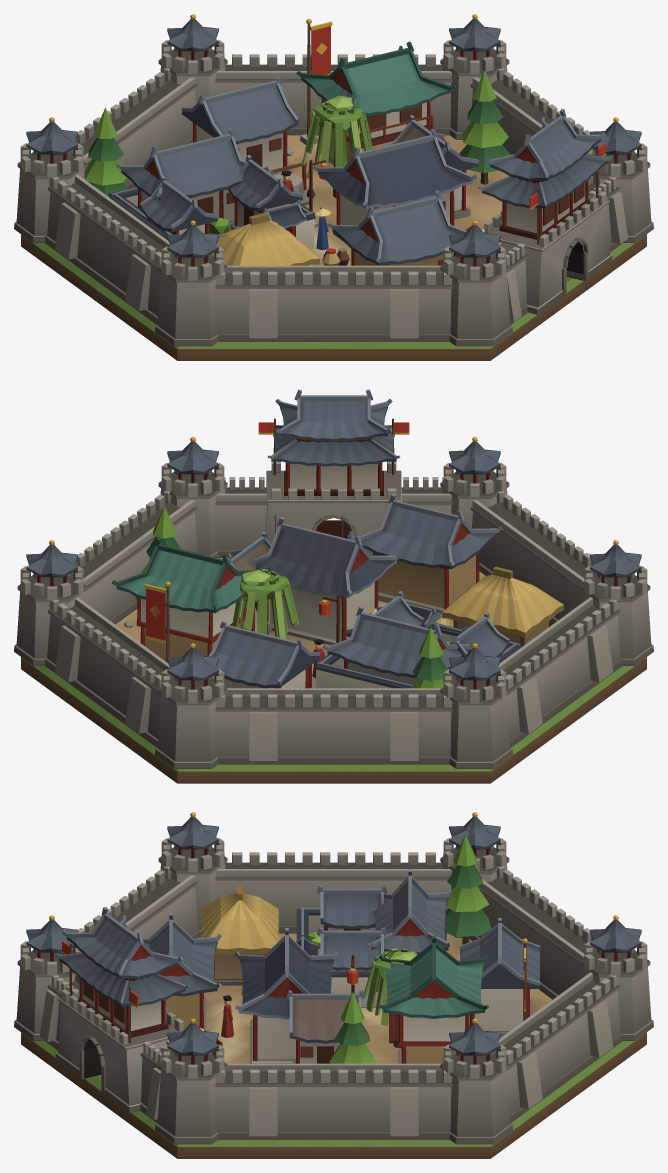
Rendered from cluster_walled.glb.
The picture shows the model from 3 angles, top to bottom: view 1: azimuth 30°, elevation 25°; view 2: azimuth 150°, elevation 25°; view 3: azimuth 270°, elevation 25°; orthographic projection.
Visible parts, largest first — view 1: city_gate.001, hex_ground_walled, house_courtyard.001, house_large_c.001, wall_straight.005, wall_straight.006, house_twostory.002, wall_corner.003, wall_corner.004, house_small_a.002, house_small_b.002, wall_straight.003 (+18 smaller); view 2: city_gate.001, hex_ground_walled, house_large_c.001, house_courtyard.001, house_small_b.002, wall_straight.001, wall_straight.002, house_twostory.002, wall_corner.001, wall_corner.002, wall_straight.004, wall_straight.011 (+18 smaller); view 3: city_gate.001, hex_ground_walled, house_large_c.001, house_courtyard.001, house_twostory.002, wall_straight.010, wall_straight.009, wall_corner.005, wall_corner.006, wall_straight.004, wall_straight.012, house_small_a.002 (+16 smaller).
Part boxes in pixels (x1=…): city_gate.001: x1=478, y1=109, x2=612, y2=314; hex_ground_walled: x1=21, y1=135, x2=646, y2=360; house_courtyard.001: x1=108, y1=127, x2=315, y2=249; house_large_c.001: x1=313, y1=115, x2=479, y2=243; wall_straight.005: x1=215, y1=265, x2=333, y2=341; wall_straight.006: x1=334, y1=265, x2=452, y2=341; house_twostory.002: x1=296, y1=41, x2=455, y2=167; wall_corner.003: x1=155, y1=220, x2=227, y2=346; wall_corner.004: x1=440, y1=220, x2=512, y2=346; house_small_a.002: x1=181, y1=76, x2=298, y2=175; house_small_b.002: x1=327, y1=190, x2=466, y2=265; wall_straight.003: x1=45, y1=174, x2=135, y2=285; city_gate.001: x1=258, y1=389, x2=409, y2=555; hex_ground_walled: x1=21, y1=553, x2=646, y2=783; house_large_c.001: x1=228, y1=516, x2=401, y2=645; house_courtyard.001: x1=314, y1=591, x2=521, y2=688; house_small_b.002: x1=349, y1=493, x2=502, y2=613; wall_straight.001: x1=215, y1=688, x2=333, y2=764; wall_straight.002: x1=334, y1=688, x2=452, y2=764; house_twostory.002: x1=112, y1=537, x2=271, y2=679; wall_corner.001: x1=155, y1=643, x2=227, y2=768; wall_corner.002: x1=440, y1=643, x2=512, y2=768; wall_straight.004: x1=532, y1=597, x2=622, y2=707; wall_straight.011: x1=45, y1=597, x2=135, y2=707; city_gate.001: x1=55, y1=907, x2=189, y2=1112; hex_ground_walled: x1=21, y1=933, x2=646, y2=1158; house_large_c.001: x1=235, y1=928, x2=364, y2=1063; house_courtyard.001: x1=296, y1=869, x2=451, y2=1007; house_twostory.002: x1=379, y1=935, x2=489, y2=1063; wall_straight.010: x1=334, y1=1063, x2=452, y2=1139; wall_straight.009: x1=215, y1=1063, x2=333, y2=1139; wall_corner.005: x1=155, y1=1018, x2=227, y2=1144; wall_corner.006: x1=440, y1=1018, x2=512, y2=1144; wall_straight.004: x1=215, y1=852, x2=333, y2=933; wall_straight.012: x1=532, y1=972, x2=623, y2=1083; house_small_a.002: x1=459, y1=918, x2=540, y2=1038.
Bounding box in the file's own units: 17.73 × 6.2 × 20.44.
